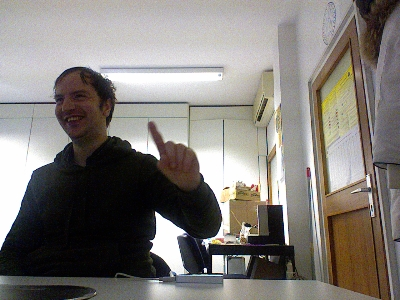食指: (145, 117, 202, 192)
